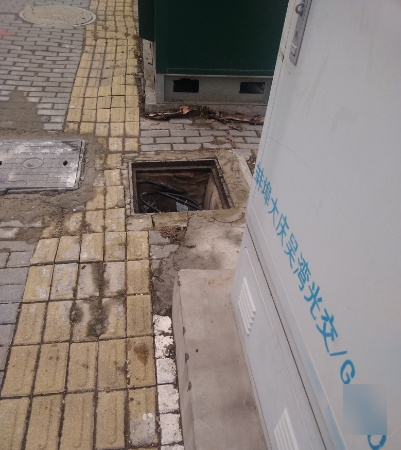good: (1, 138, 84, 194)
lose: (125, 157, 235, 214)
